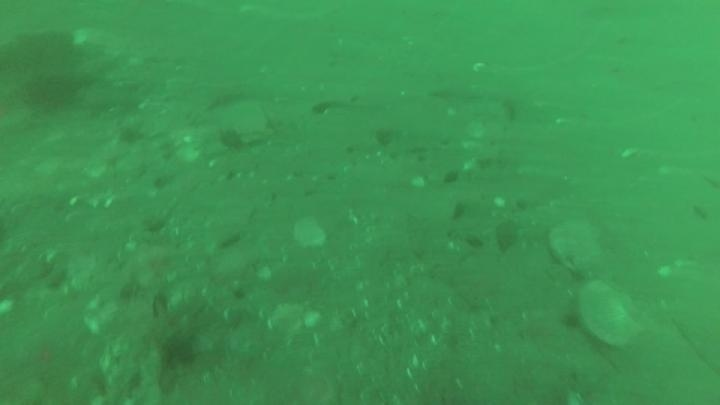echinus: (23, 68, 81, 113)
scallop: (576, 279, 642, 350), (546, 217, 607, 280), (290, 215, 329, 252)
